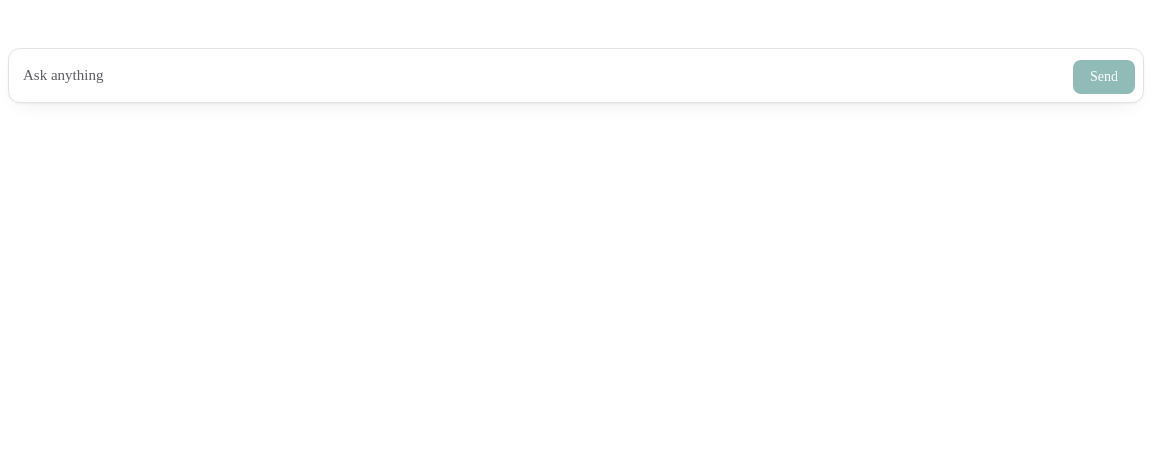
Scenario: streaming chat › stop aborts the request, keeps partial text, and cancels pending tools
Type "Go" into the text box named "Message" at (541, 75), box [17,57,1065,94]
Then press Enter
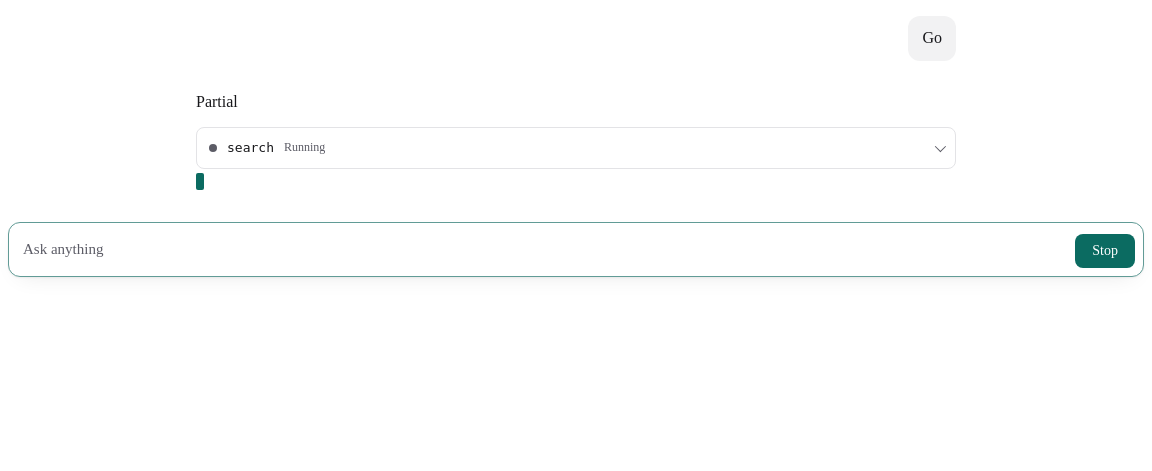
Expected: the text "Running" is shown, [284,138,325,158]
Click the button "Stop" at (1105, 251), box [1075,234,1135,268]
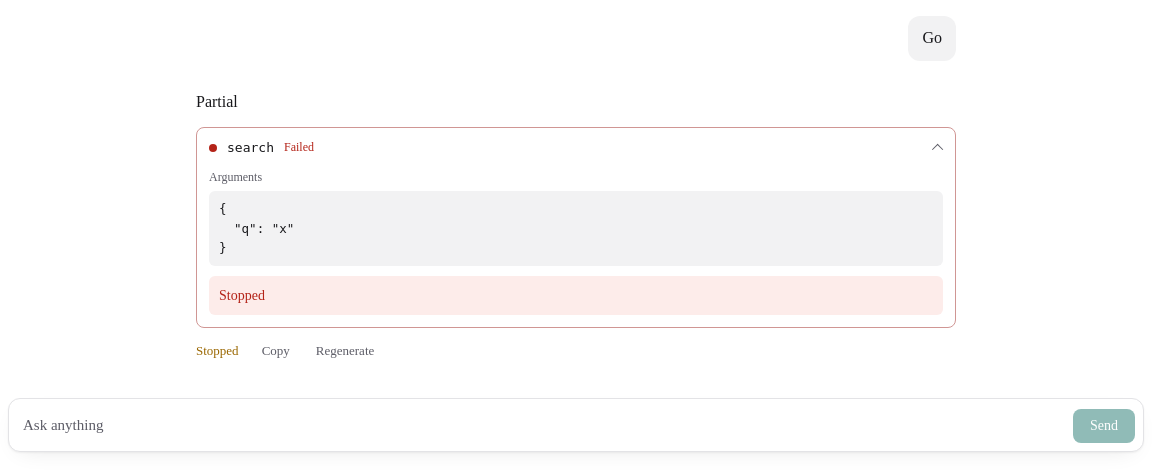
Expected: the element named "Assistant" shows "Partial", [196,93,238,110]
Expected: the text "Stopped" is shown, [196,343,239,358]
Expected: the text "Failed" is shown, [284,138,314,158]
